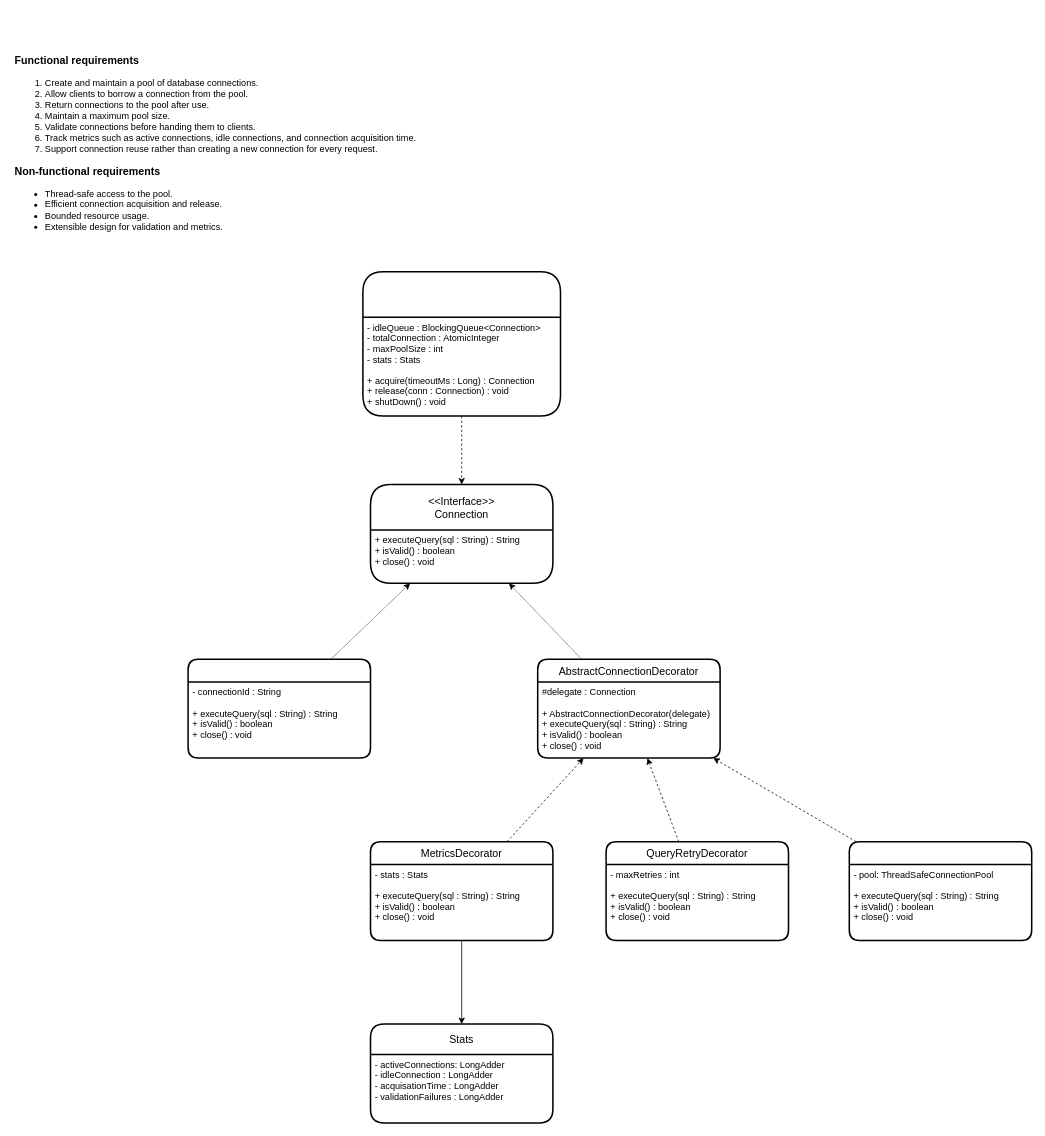
Image size: 1045x1136. Some labels were removed from this diagram. Here are the shapes that lost their labels. From the top down, the box of each, then its label:
(362, 271, 561, 416): ThreadSafeConnectionPool
(187, 658, 371, 758): BasicConnection
(848, 841, 1032, 941): PoolConnectionDecorator
